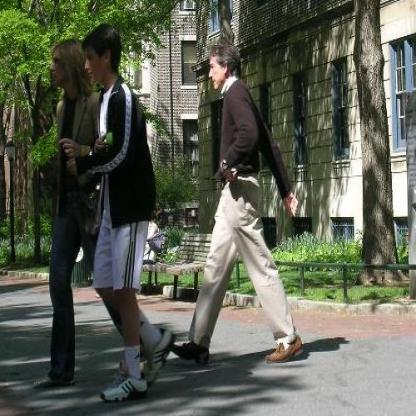person: (180, 34, 313, 360), (78, 30, 184, 392)
